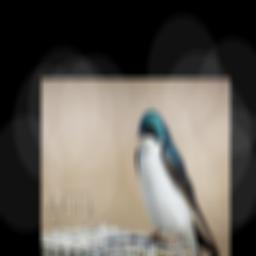Swallow: (134, 110, 221, 256)
